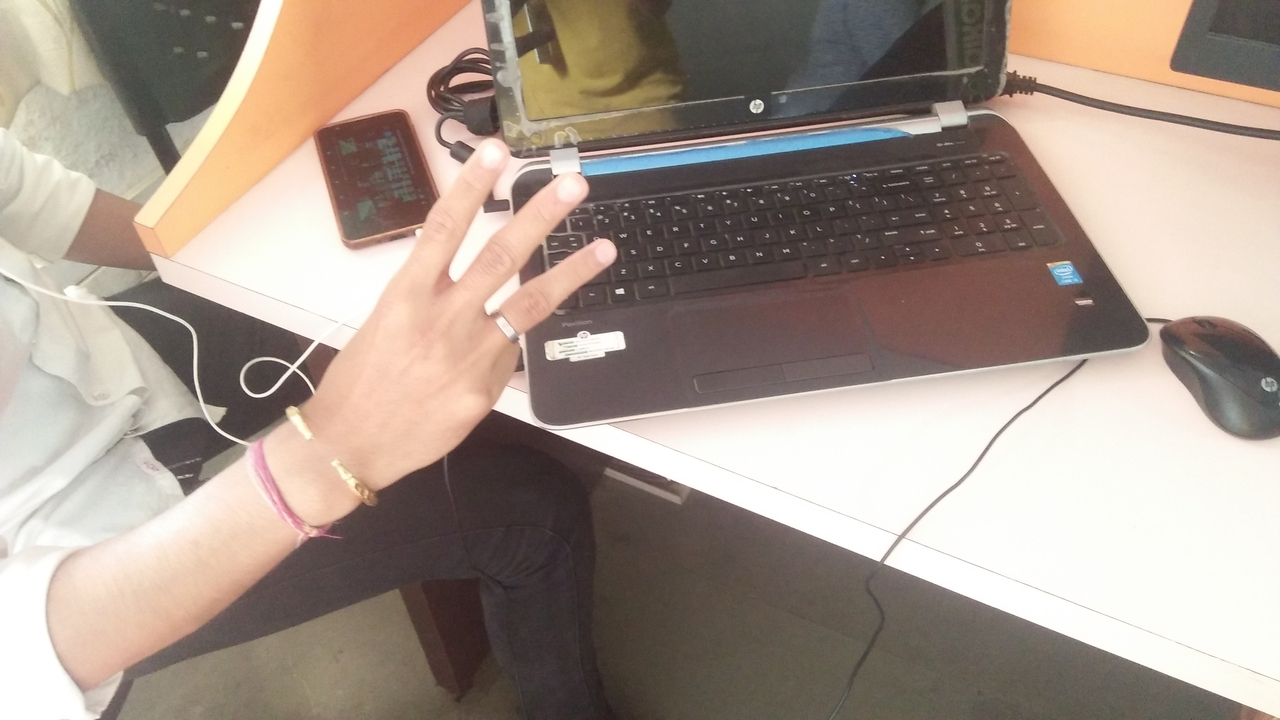fingertip: (538, 156, 592, 218), (458, 126, 514, 182), (576, 236, 623, 283)
